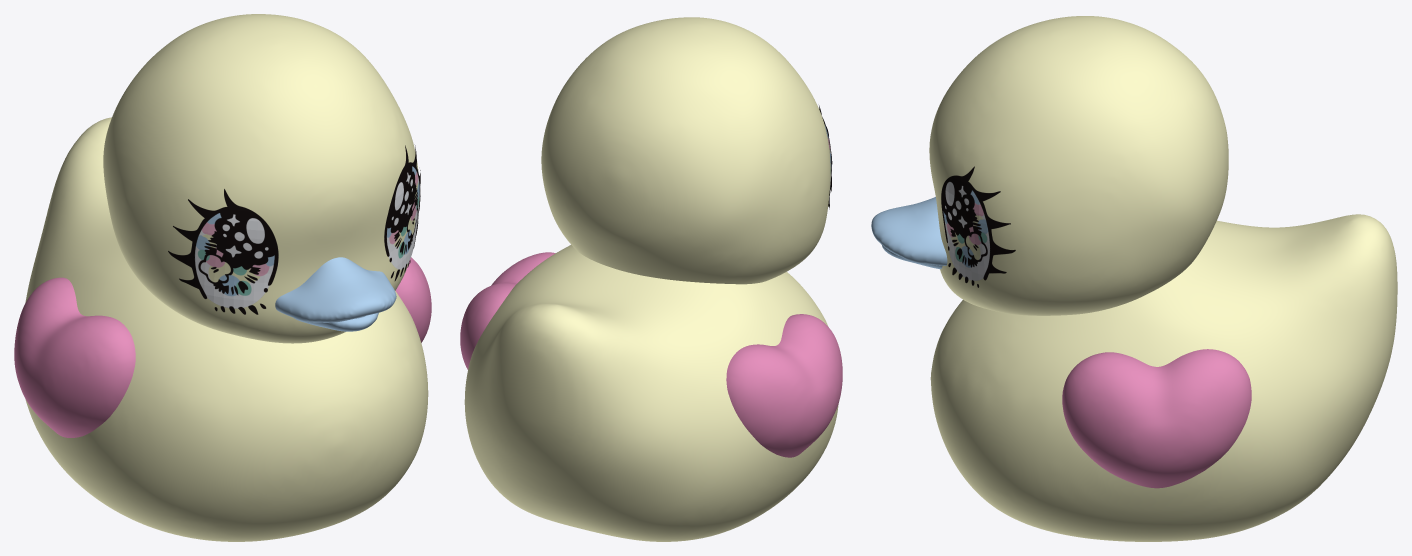
3 renders of one model, left to right at view 1: azimuth 30°, elevation 25°; view 2: azimuth 150°, elevation 25°; view 3: azimuth 270°, elevation 25°, orthographic. The views are drawn at different scales.
Parts seen in each view (by area): view 1: Torebi 5, Fix, Torebi 7, 平面.002, Torebi 3, Torebi 4; view 2: Torebi 5, Fix, Torebi 7, Torebi 4; view 3: Torebi 5, Fix, Torebi 4, 平面.002, Torebi 3.
Part boxes in pixels (left/top/right/bottom): Torebi 5: left=25, top=117, right=428, bottom=541; Fix: left=103, top=14, right=418, bottom=343; Torebi 7: left=14, top=277, right=135, bottom=437; 平面.002: left=168, top=145, right=420, bottom=314; Torebi 3: left=275, top=257, right=396, bottom=331; Torebi 4: left=395, top=257, right=431, bottom=342; Torebi 5: left=464, top=245, right=838, bottom=541; Fix: left=541, top=17, right=830, bottom=284; Torebi 7: left=726, top=314, right=842, bottom=457; Torebi 4: left=460, top=252, right=555, bottom=369; Torebi 5: left=930, top=214, right=1397, bottom=541; Fix: left=929, top=16, right=1228, bottom=315; Torebi 4: left=1062, top=349, right=1251, bottom=488; 平面.002: left=941, top=166, right=1015, bottom=287; Torebi 3: left=871, top=197, right=947, bottom=269.
Size of the model in its own units: 50.64 by 60.08 by 62.26.
Materials: 5 (1 with a texture image).
